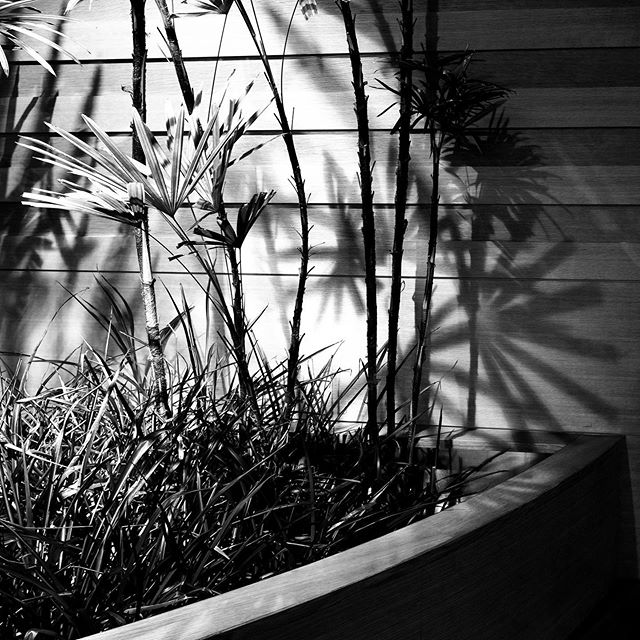vegetation: (1, 1, 489, 496)
